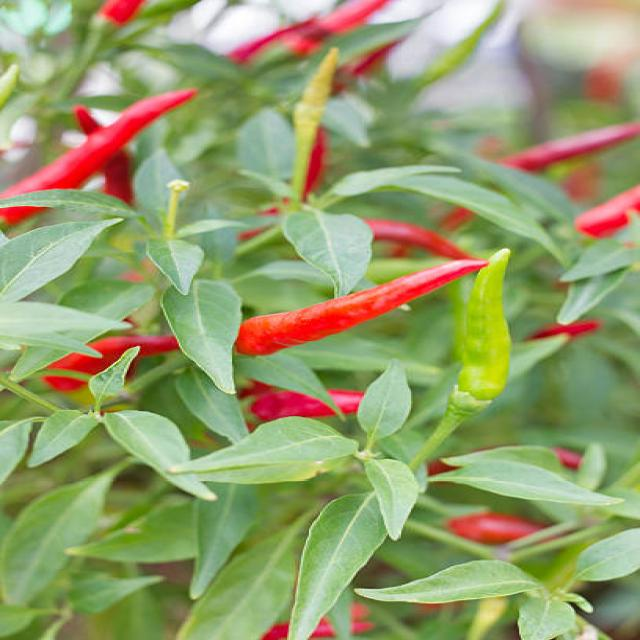Ripe: (236, 260, 488, 355), (0, 91, 197, 199)
Unripe: (458, 249, 512, 400)
